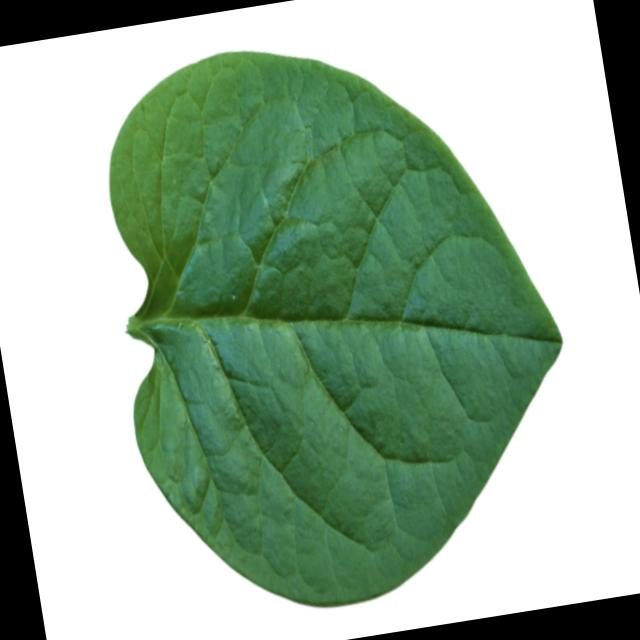Medicinal-Basale: (78, 6, 598, 632)
